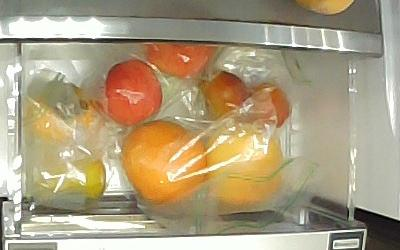apple_vinyl: (103, 58, 164, 127), (145, 42, 216, 78)
grapefruit_vinyl: (124, 121, 207, 204), (208, 124, 283, 205)
persimmon_vinyl: (26, 84, 99, 144), (33, 157, 107, 210)
prune_vinyl: (198, 70, 247, 119), (247, 84, 293, 130)
